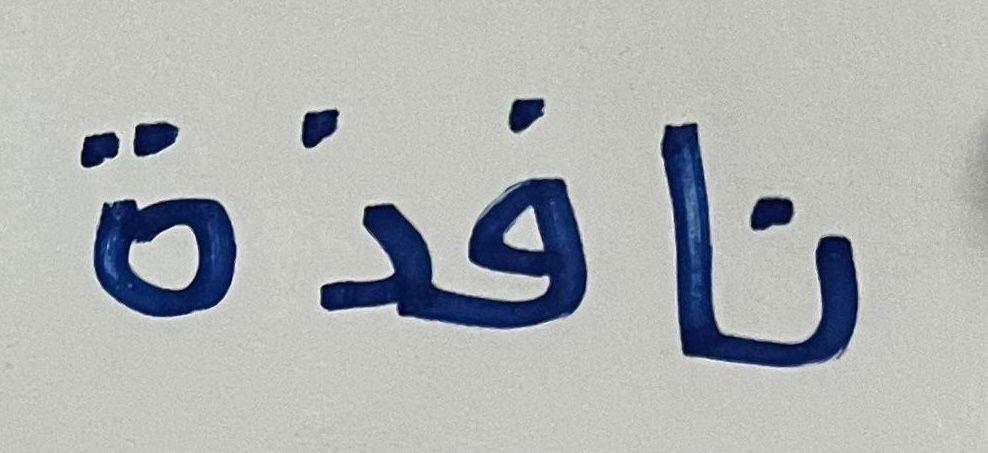alef: (631, 94, 733, 388)
feh: (441, 79, 626, 380)
noon: (737, 153, 901, 423)
teh_marbota: (54, 44, 262, 346)
thal: (267, 68, 436, 351)
